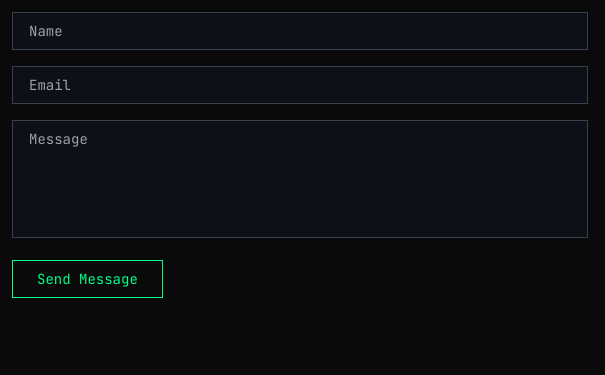
Scenario: ContactForm › shows inline error messages on empty submit
What coordinates should you click on to do the following:
click the button "Send Message"
I would click on:
 (87, 279)
Its box is left=12, top=260, right=163, bottom=298.
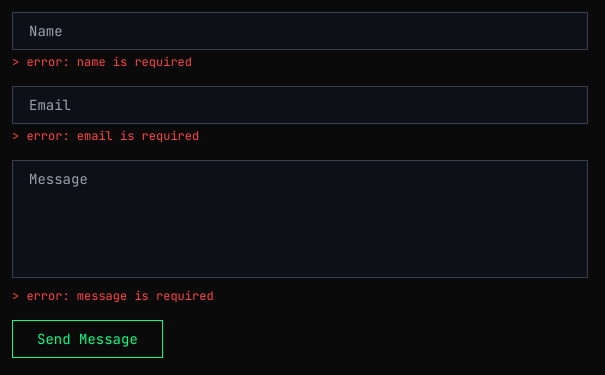
Expected: the text "> error: name is required" is shown, left=12, top=54, right=192, bottom=70
Expected: the text "> error: email is required" is shown, left=12, top=128, right=199, bottom=144
Expected: the text "> error: message is required" is shown, left=12, top=288, right=214, bottom=304
